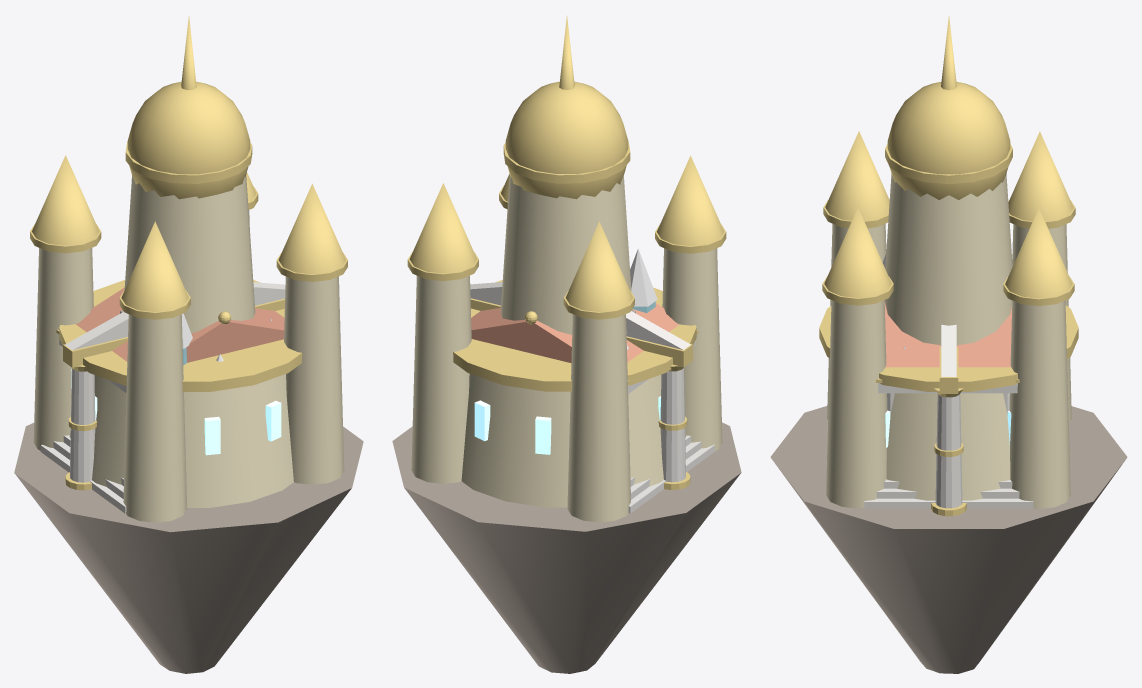
The model's file is props.glb.
3 renders of one model, left to right at view 1: azimuth 30°, elevation 25°; view 2: azimuth 150°, elevation 25°; view 3: azimuth 270°, elevation 25°, orthographic.
Parts seen in each view (by area): view 1: palace, gate, temple; view 2: palace, gate, temple, icecastle; view 3: palace, temple, gate.
Boxes of the visible parts, x1,y1,x2,y2 form: palace: (14,16,363,673); gate: (63,282,285,490); temple: (40,287,284,513); palace: (392,16,741,673); gate: (470,282,692,489); temple: (471,303,714,513); icecastle: (626,248,657,349); palace: (770,16,1127,673); temple: (864,301,1033,508); gate: (931,324,966,516).
Bounding box in the file's own units: 18.07 × 38 × 19.
